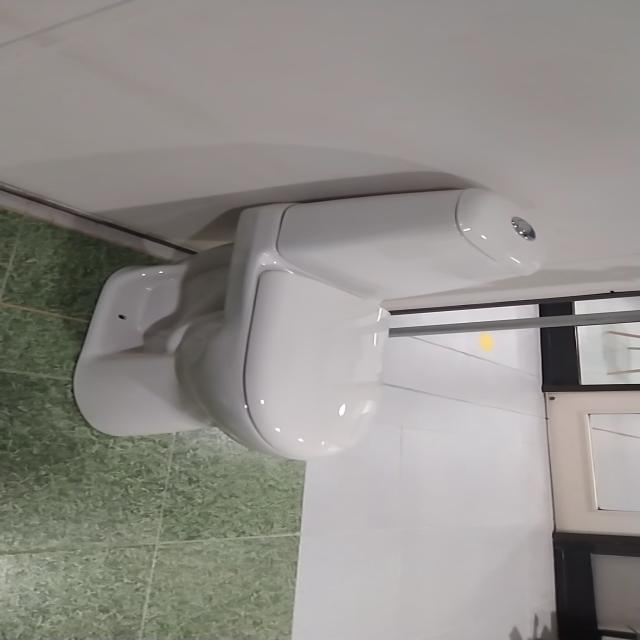toilet: (1, 1, 638, 638), (70, 185, 544, 461)
